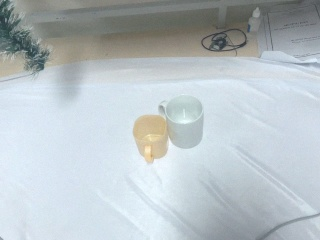cup: (159, 94, 205, 149), (132, 113, 170, 162)
